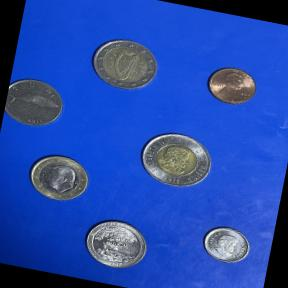coin: (130, 122, 224, 199), (84, 32, 166, 98), (74, 212, 155, 278), (20, 146, 96, 210), (1, 70, 70, 134), (198, 58, 264, 114), (193, 220, 255, 270)
